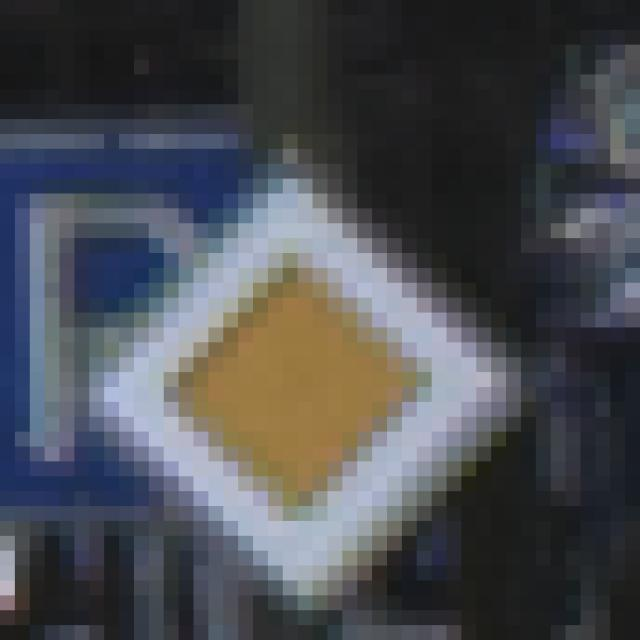Main Road: (75, 75, 552, 552)
